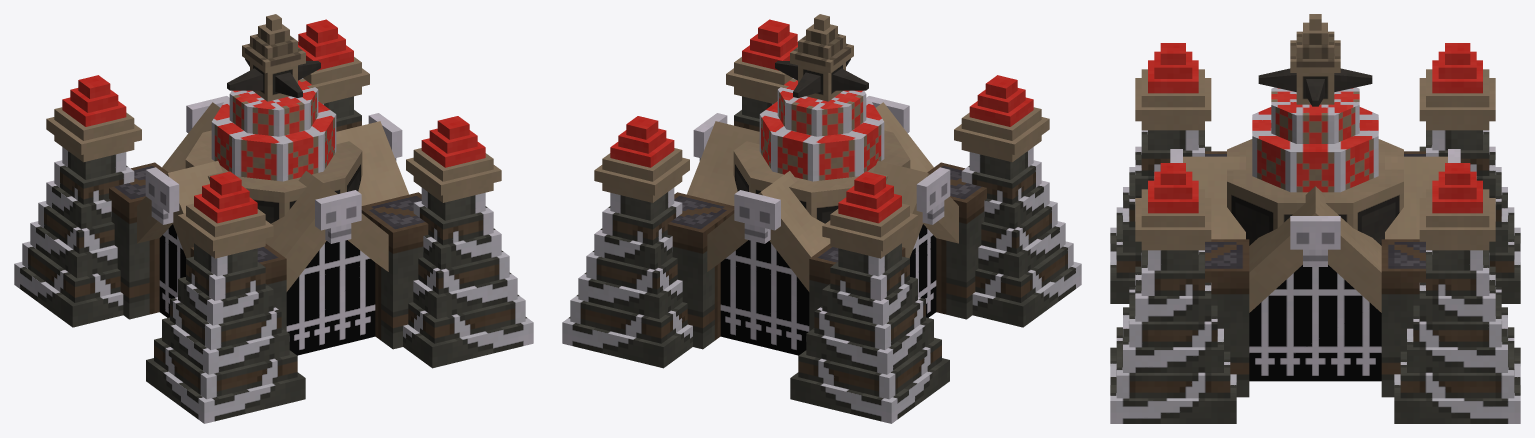
File: Krypta.fbx
The picture shows the model from 3 angles, left to right: view 1: azimuth 30°, elevation 25°; view 2: azimuth 150°, elevation 25°; view 3: azimuth 270°, elevation 25°; orthographic projection. The views are drawn at different scales.
Visible parts, largest first — view 1: Cube; view 2: Cube; view 3: Cube.
Part boxes in pixels (x1=…): Cube: x1=14, y1=14, x2=533, y2=423; Cube: x1=562, y1=14, x2=1081, y2=423; Cube: x1=1110, y1=14, x2=1520, y2=423.
Bounding box in the file's own units: 1625 × 1400 × 1625.
